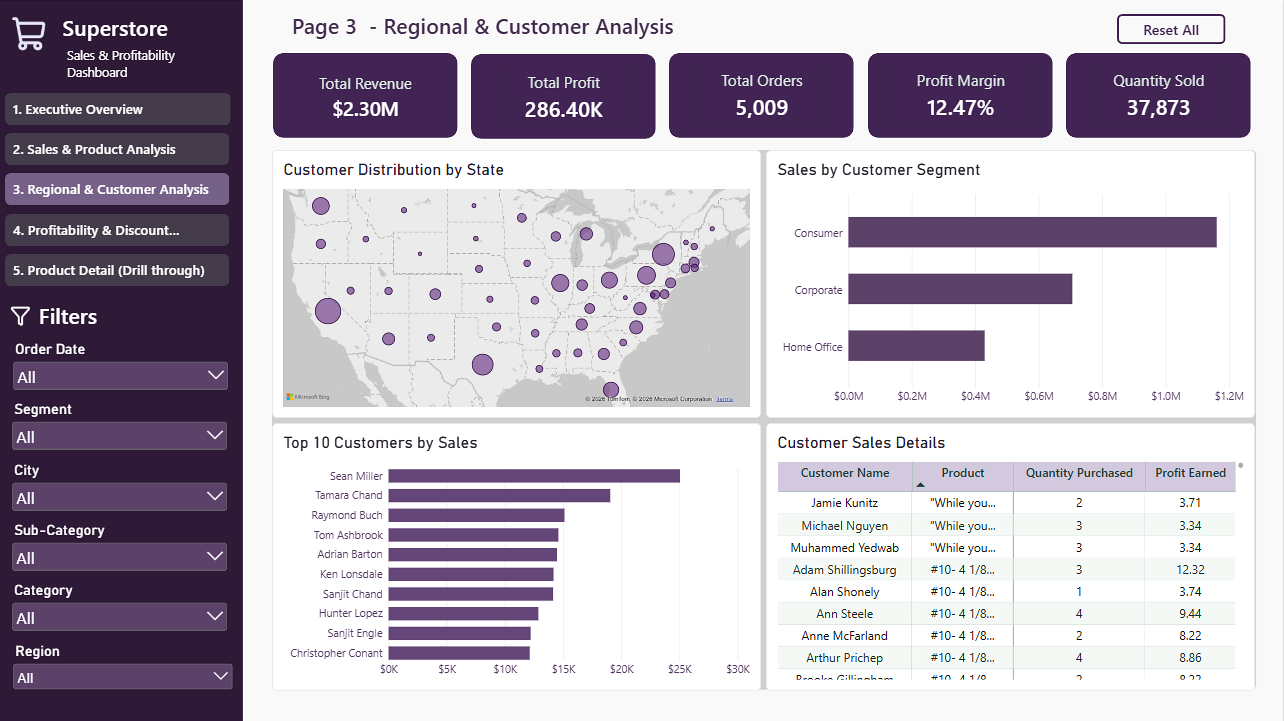

Layout of this report page (visuals, bound fields, positions):
{"tool":"powerbi","page":{"name":"Regional & Customer ","canvas":[1920,1080],"ordinal":2},"visuals":[{"type":"shape","box":[0,0,367.1,1080],"z":0,"group":"g2"},{"type":"textbox","box":[77.1,20,209.6,48.3],"z":0,"group":"g7"},{"type":"shape","box":[412.6,79.6,275.5,126.6],"z":0,"group":"g8"},{"type":"shape","box":[1004.3,79.6,275.7,126.6],"z":0,"group":"g10"},{"type":"shape","box":[1300.3,79.6,275.7,126.6],"z":0,"group":"g11"},{"type":"shape","box":[1596.3,79.6,275.7,126.6],"z":0,"group":"g12"},{"type":"shape","box":[708.3,80.9,275.7,126.6],"z":0,"group":"g9"},{"type":"actionButton","box":[13.1,140,337,48],"z":0,"group":"g6"},{"type":"shape","box":[409.7,223.6,1469.4,805.6],"z":0},{"type":"textbox","box":[43,450,125.4,46.7],"z":0,"group":"g5"},{"type":"group","id":"g1","title":"Group 1","box":[18,510,338.4,537.9],"z":0,"group":"g3"},{"type":"slicer","fields":{"Values":["Sample - Superstore.Order Date"]},"box":[19.8,510,330.4,87],"z":0,"group":"g1"},{"type":"group","id":"g2","title":"Group 6","box":[0,0,367.1,1080],"z":1000},{"type":"group","id":"g3","title":"Group 5","box":[4.9,20,351.5,1027.9],"z":1000,"group":"g2"},{"type":"textbox","box":[105.6,70,221.6,61.4],"z":1000,"group":"g7"},{"type":"cardVisual","fields":{"Data":["Sum(Sample - Superstore.Sales)"]},"box":[412.8,101,277,88.2],"z":1000,"group":"g8"},{"type":"cardVisual","fields":{"Data":["Count(Sample - Superstore.Order ID)"]},"box":[1042.9,103.4,200,79],"z":1000,"group":"g10"},{"type":"cardVisual","fields":{"Data":["Sample - Superstore.Profit Margin"]},"box":[1338.9,103.4,200,79],"z":1000,"group":"g11"},{"type":"cardVisual","fields":{"Data":["Sum(Sample - Superstore.Quantity)"]},"box":[1634.9,103.4,200,79],"z":1000,"group":"g12"},{"type":"cardVisual","fields":{"Data":["Sum(Sample - Superstore.Profit)"]},"box":[747.7,106,200,79],"z":1000,"group":"g9"},{"type":"actionButton","box":[12.8,320,335,48],"z":1000,"group":"g6"},{"type":"image","box":[4.9,456.9,60.7,31.5],"z":1000,"group":"g5"},{"type":"slicer","fields":{"Values":["Sample - Superstore.Category"]},"box":[18.4,870,330.4,87],"z":1000,"group":"g1"},{"type":"group","id":"g4","title":"Group 13","box":[412.6,79.6,1460.3,128],"z":2000},{"type":"group","id":"g5","title":"Group 3","box":[4.9,140,345.2,356.7],"z":2000,"group":"g3"},{"type":"group","id":"g6","title":"Group 2","box":[12.8,140,337.2,288],"z":2000,"group":"g5"},{"type":"actionButton","box":[12.8,380,335,48],"z":2000,"group":"g6"},{"type":"slicer","fields":{"Values":["Sample - Superstore.Sub-Category"]},"box":[18.4,780,330.4,87],"z":2000,"group":"g1"},{"type":"textbox","box":[440.2,16,581.2,54.5],"z":3000},{"type":"group","id":"g7","title":"Group 4","box":[77.1,20,250.1,111.4],"z":3000,"group":"g3"},{"type":"group","id":"g8","title":"Group 7","box":[412.6,79.6,277.1,126.6],"z":3000,"group":"g4"},{"type":"actionButton","box":[12.8,260,335,48],"z":3000,"group":"g6"},{"type":"slicer","fields":{"Values":["Sample - Superstore.City"]},"box":[18,690,330.4,87],"z":3000,"group":"g1"},{"type":"group","id":"g9","title":"Group 8","box":[708.3,80.9,275.7,126.6],"z":4000,"group":"g4"},{"type":"actionButton","box":[12.8,200,335,48],"z":4000,"group":"g6"},{"type":"slicer","fields":{"Values":["Sample - Superstore.Segment"]},"box":[18.3,600,330.4,87],"z":4000,"group":"g1"},{"type":"clusteredBarChart","title":"Top 10 Customers by Sales","fields":{"Category":["Sample - Superstore.Customer Name"],"Y":["Sum(Sample - Superstore.Sales)"]},"box":[410,632,730,400],"z":4000},{"type":"group","id":"g10","title":"Group 9","box":[1004.3,79.6,275.7,126.6],"z":5000,"group":"g4"},{"type":"clusteredBarChart","title":"Sales by Customer Segment","fields":{"Category":["Sample - Superstore.Segment"],"Y":["Sum(Sample - Superstore.Sales)"]},"box":[1148,223.5,730,400],"z":5000},{"type":"slicer","fields":{"Values":["Sample - Superstore.Region"]},"box":[19.8,960,336.5,87.9],"z":5000,"group":"g1"},{"type":"group","id":"g11","title":"Group 10","box":[1300.3,79.6,275.7,126.6],"z":6000,"group":"g4"},{"type":"tableEx","title":"Customer Sales Details ","fields":{"Values":["Sample - Superstore.Customer Name","Sample - Superstore.Short Product Name","Sum(Sample - Superstore.Quantity)","Sum(Sample - Superstore.Profit)"]},"box":[1148,632,730,400],"z":6000},{"type":"group","id":"g12","title":"Group 11","box":[1596.3,79.6,275.7,126.6],"z":7000,"group":"g4"},{"type":"map","title":"Customer Distribution by State","fields":{"Category":["Sample - Superstore.State"],"Size":["Count(Sample - Superstore.Customer ID)"]},"box":[410,223.5,730,400],"z":7000},{"type":"image","box":[20,22,55,55],"z":8000},{"type":"actionButton","box":[1672.2,20.8,162,45],"z":9000}]}

Visuals, with their boxes on the page's 1920x1080 design canvas (x1, y1, x2, y2). These are canvas units, not pixel positions in the 1284x721 screenshot, which may show the page scaled, cropped or inside an application window:
shape: region(0, 0, 367, 1080)
textbox: region(77, 20, 287, 68)
shape: region(413, 80, 688, 206)
shape: region(1004, 80, 1280, 206)
shape: region(1300, 80, 1576, 206)
shape: region(1596, 80, 1872, 206)
shape: region(708, 81, 984, 208)
actionButton: region(13, 140, 350, 188)
shape: region(410, 224, 1879, 1029)
textbox: region(43, 450, 168, 497)
"Group 1" group: region(18, 510, 356, 1048)
slicer - Sample - Superstore.Order Date: region(20, 510, 350, 597)
"Group 6" group: region(0, 0, 367, 1080)
"Group 5" group: region(5, 20, 356, 1048)
textbox: region(106, 70, 327, 131)
cardVisual - Sum(Sample - Superstore.Sales): region(413, 101, 690, 189)
cardVisual - Count(Sample - Superstore.Order ID): region(1043, 103, 1243, 182)
cardVisual - Sample - Superstore.Profit Margin: region(1339, 103, 1539, 182)
cardVisual - Sum(Sample - Superstore.Quantity): region(1635, 103, 1835, 182)
cardVisual - Sum(Sample - Superstore.Profit): region(748, 106, 948, 185)
actionButton: region(13, 320, 348, 368)
image: region(5, 457, 66, 488)
slicer - Sample - Superstore.Category: region(18, 870, 349, 957)
"Group 13" group: region(413, 80, 1873, 208)
"Group 3" group: region(5, 140, 350, 497)
"Group 2" group: region(13, 140, 350, 428)
actionButton: region(13, 380, 348, 428)
slicer - Sample - Superstore.Sub-Category: region(18, 780, 349, 867)
textbox: region(440, 16, 1021, 70)
"Group 4" group: region(77, 20, 327, 131)
"Group 7" group: region(413, 80, 690, 206)
actionButton: region(13, 260, 348, 308)
slicer - Sample - Superstore.City: region(18, 690, 348, 777)
"Group 8" group: region(708, 81, 984, 208)
actionButton: region(13, 200, 348, 248)
slicer - Sample - Superstore.Segment: region(18, 600, 349, 687)
"Top 10 Customers by Sales" clusteredBarChart: region(410, 632, 1140, 1032)
"Group 9" group: region(1004, 80, 1280, 206)
"Sales by Customer Segment" clusteredBarChart: region(1148, 224, 1878, 624)
slicer - Sample - Superstore.Region: region(20, 960, 356, 1048)
"Group 10" group: region(1300, 80, 1576, 206)
"Customer Sales Details " tableEx: region(1148, 632, 1878, 1032)
"Group 11" group: region(1596, 80, 1872, 206)
"Customer Distribution by State" map: region(410, 224, 1140, 624)
image: region(20, 22, 75, 77)
actionButton: region(1672, 21, 1834, 66)
